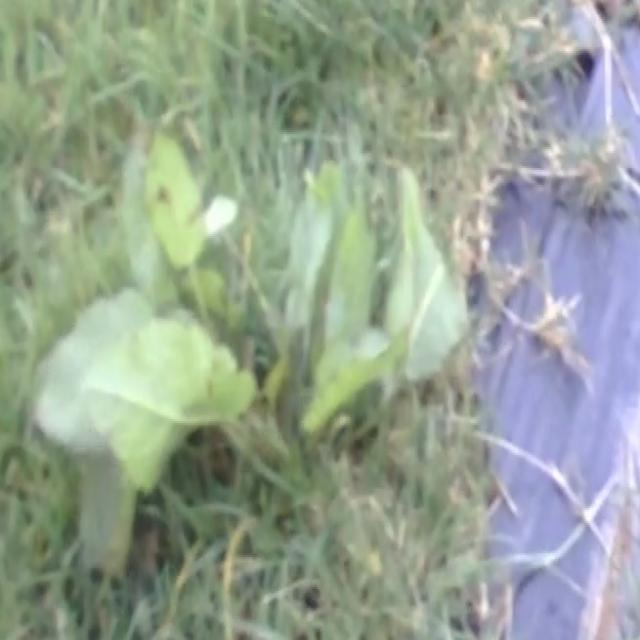organic waste: (24, 111, 487, 508)
